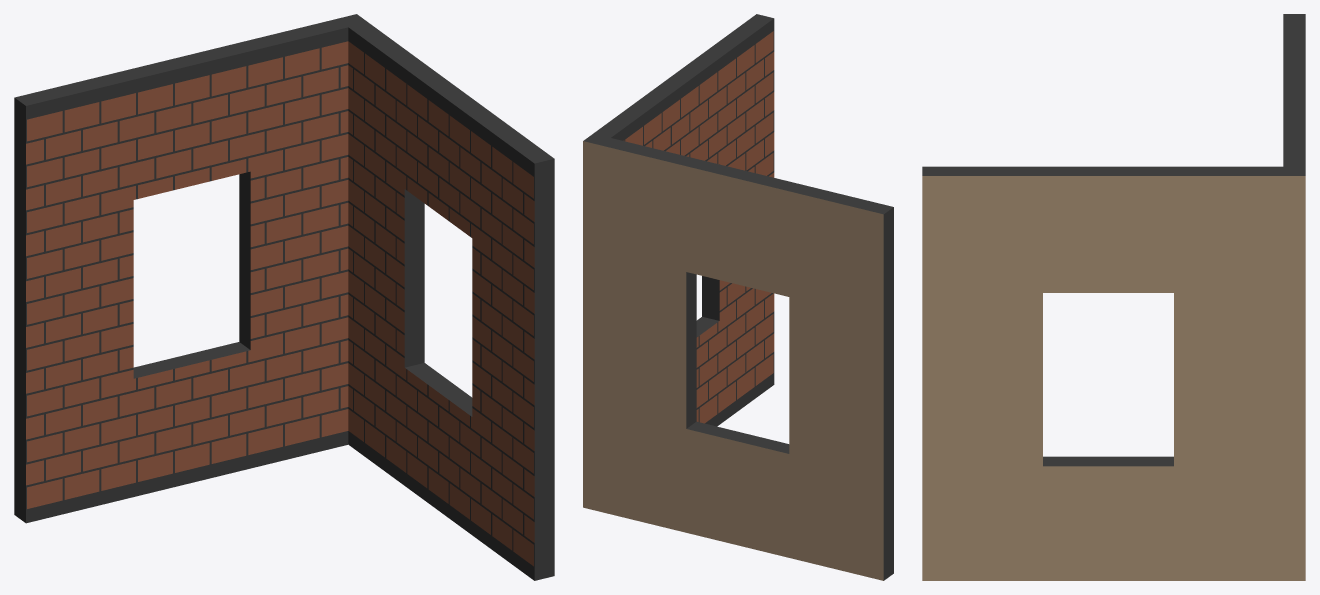
The model's file is Wall2_C10_09.fbx.
3 renders of one model, left to right at view 1: azimuth 30°, elevation 25°; view 2: azimuth 150°, elevation 25°; view 3: azimuth 270°, elevation 25°, orthographic. The views are drawn at different scales.
Parts seen in each view (by area): view 1: Wall2_C10_09; view 2: Wall2_C10_09; view 3: Wall2_C10_09.
Boxes of the visible parts, bbox=[...] form: Wall2_C10_09: bbox=[14, 14, 554, 580]; Wall2_C10_09: bbox=[583, 14, 893, 580]; Wall2_C10_09: bbox=[922, 14, 1305, 580].
Bounding box in the file's own units: 258 × 300 × 258.
